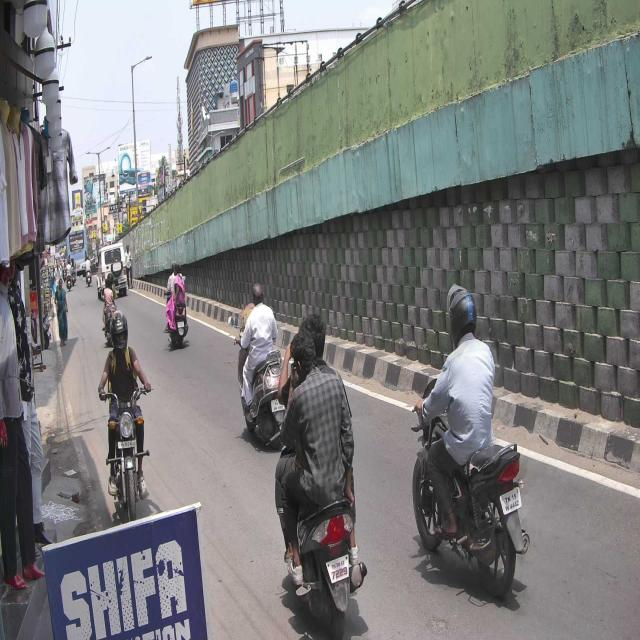double_rider: (277, 312, 369, 640)
single_rider: (410, 285, 532, 599), (98, 308, 150, 520)
